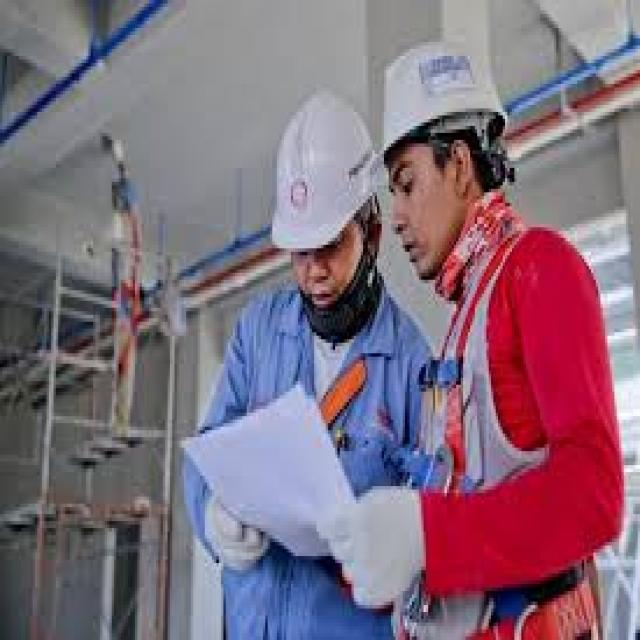Reflective-Jacket: (403, 220, 635, 622)
Safety-Helmet: (256, 80, 379, 262), (374, 32, 516, 172)
